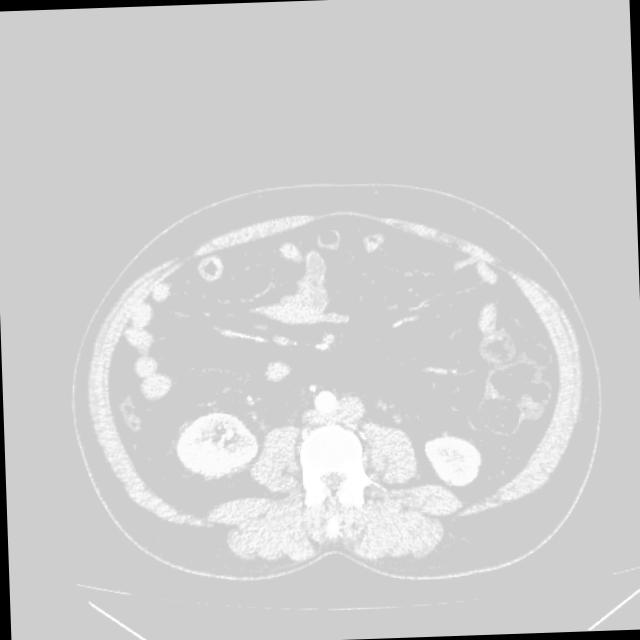TUMOR: (122, 251, 528, 504)
